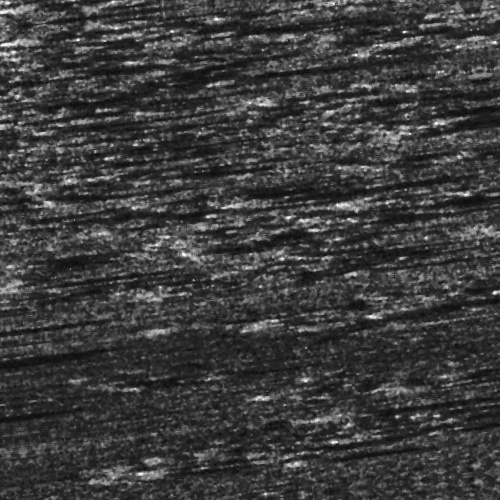object: (0, 46, 81, 61), (336, 320, 429, 333), (438, 134, 500, 149), (226, 194, 289, 207), (455, 375, 500, 390), (357, 5, 430, 14), (281, 418, 354, 427), (456, 252, 500, 265), (0, 252, 29, 263), (400, 56, 463, 61), (226, 75, 279, 80), (269, 461, 322, 466), (26, 11, 67, 16)
shadow: (13, 46, 197, 61), (258, 194, 443, 207), (317, 418, 500, 427), (383, 320, 500, 333), (13, 252, 138, 263), (253, 75, 451, 80), (394, 5, 500, 14), (47, 11, 187, 16), (296, 461, 433, 466), (0, 326, 35, 339), (0, 297, 78, 302), (475, 134, 500, 149), (432, 56, 500, 61)
